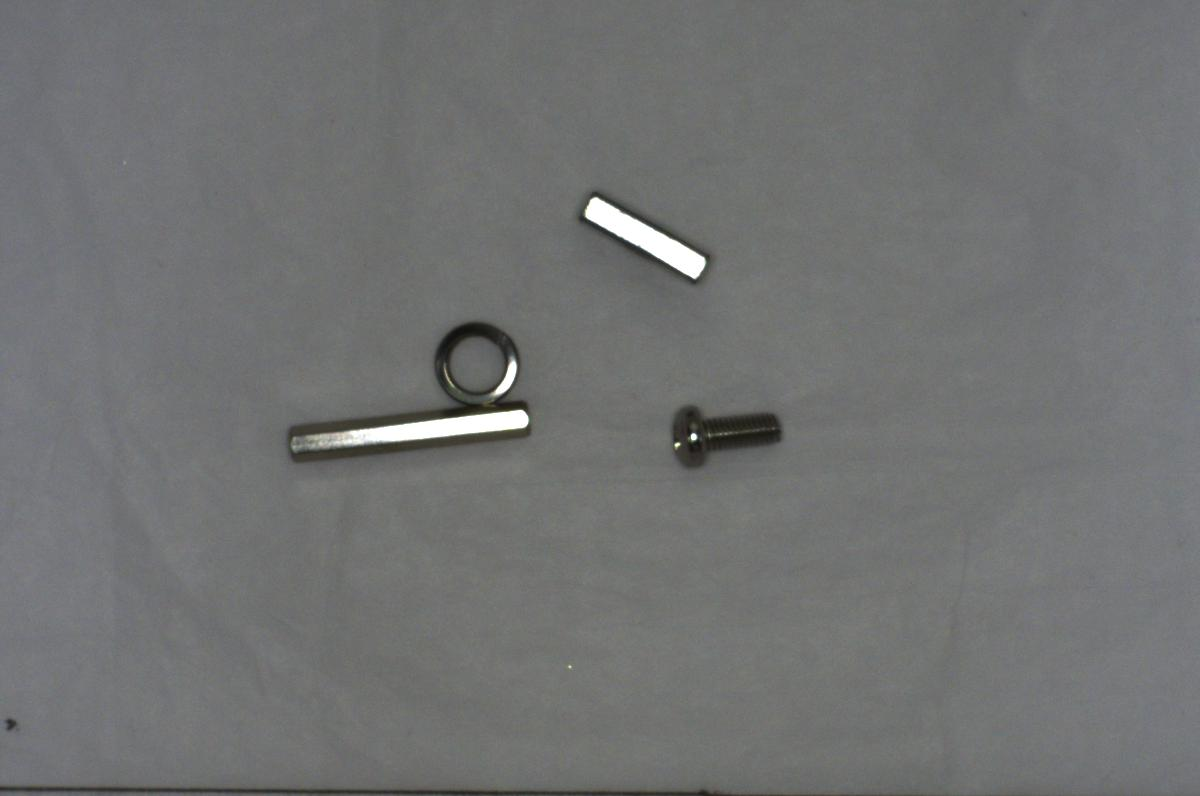Double hexagonal column: (275, 400, 534, 467)
Rectangular nut: (578, 193, 714, 285)
Round head screw: (661, 396, 786, 468)
Spring washer: (430, 316, 524, 403)
